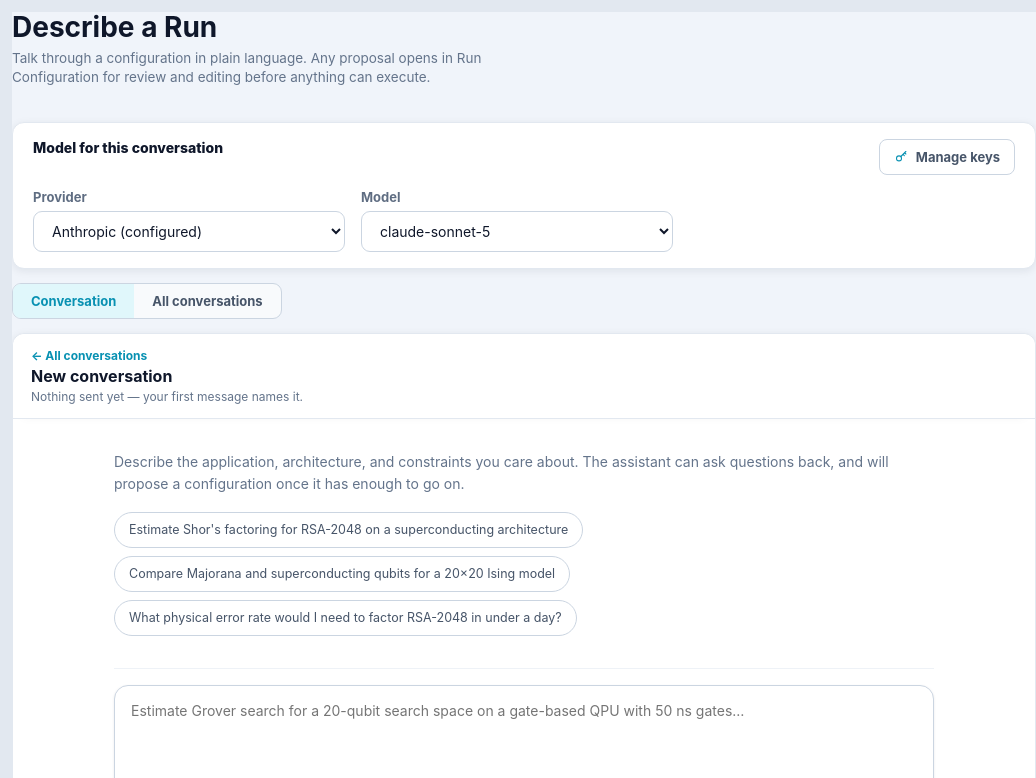
Test: ChatPage — a turn › renders a turn that asks a question rather than proposing
In the text box named "Your message": (524, 728) 115,686 -> 933,770, type "Estimate something"
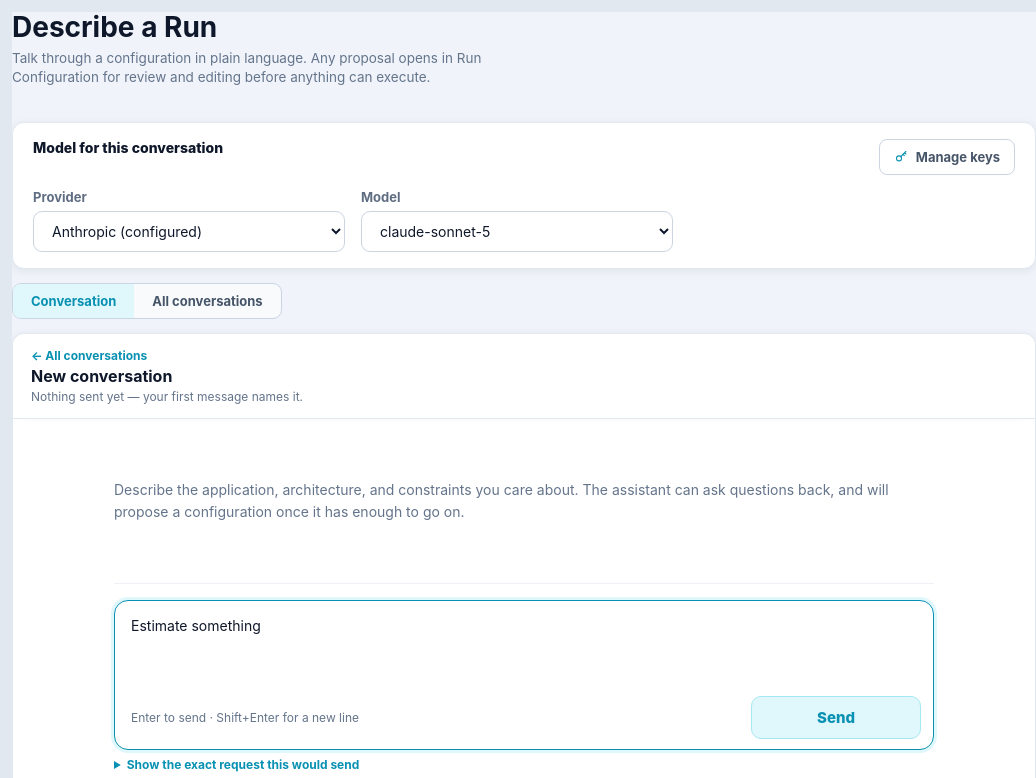
Click the button "Send": (836, 717) 751,696 -> 921,739
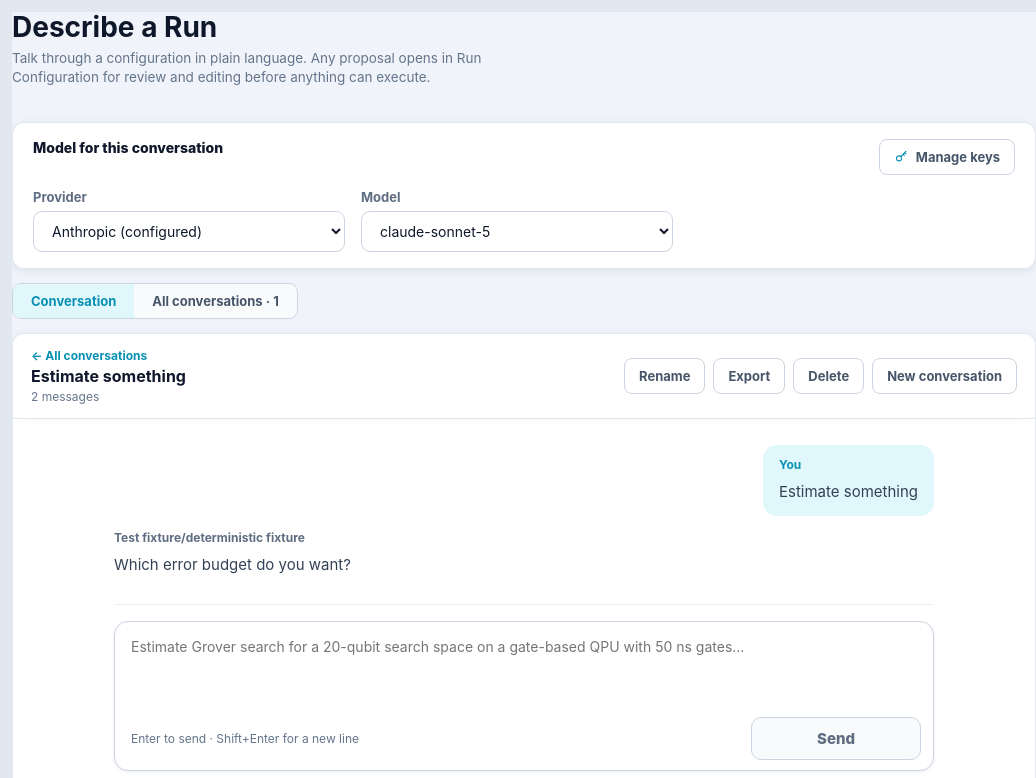
Check: the text "Which error budget do you want?" is shown, box 114,555 -> 351,574
